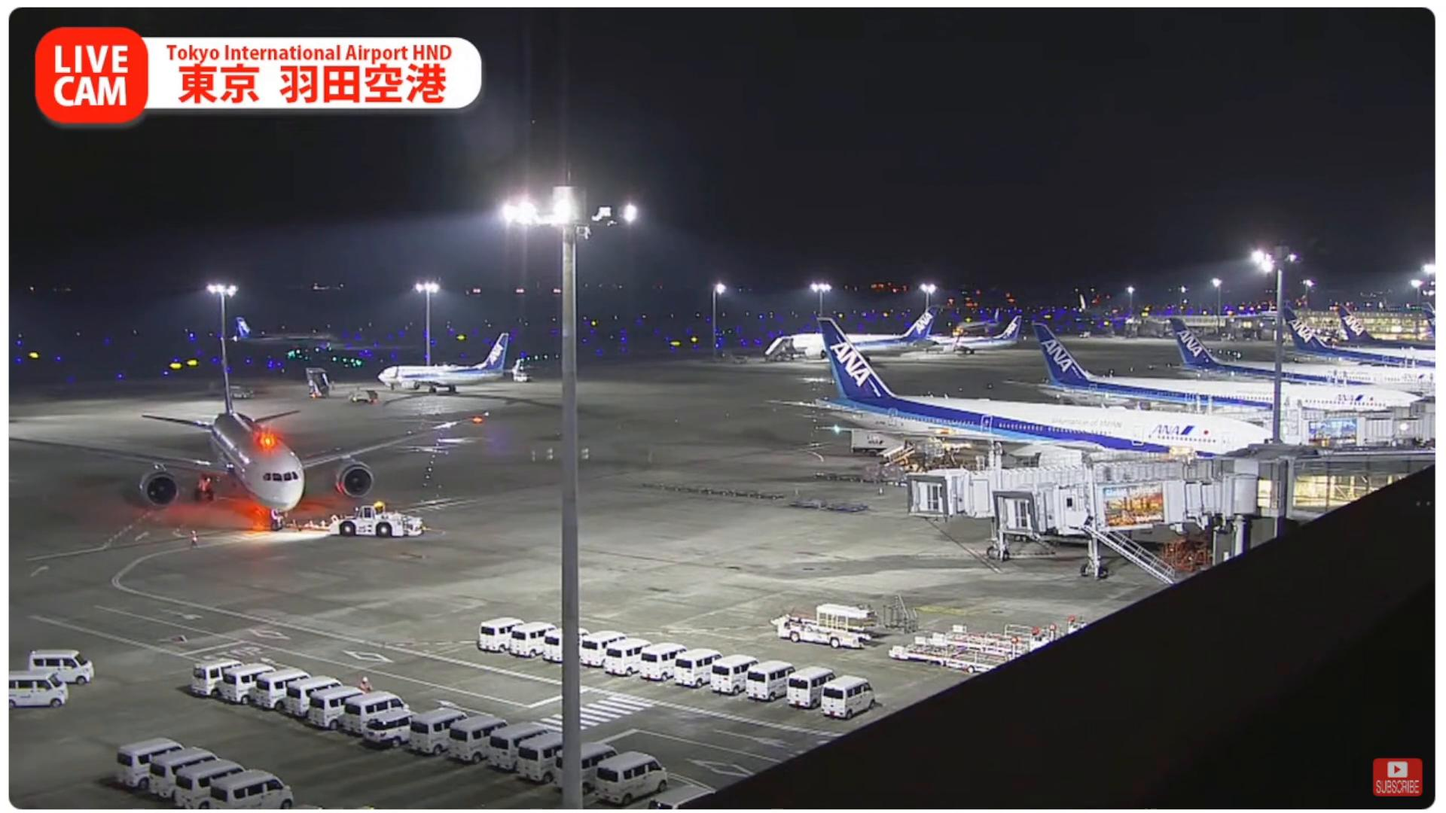APS: (326, 501, 426, 538)
Aerobridge: (905, 456, 1224, 518), (989, 475, 1256, 533)
Airplane: (7, 339, 465, 512)
JCPL: (912, 624, 1048, 657), (889, 640, 1014, 673), (747, 584, 750, 584)
Skyloader: (771, 601, 875, 650)
Window: (1290, 455, 1437, 521)
